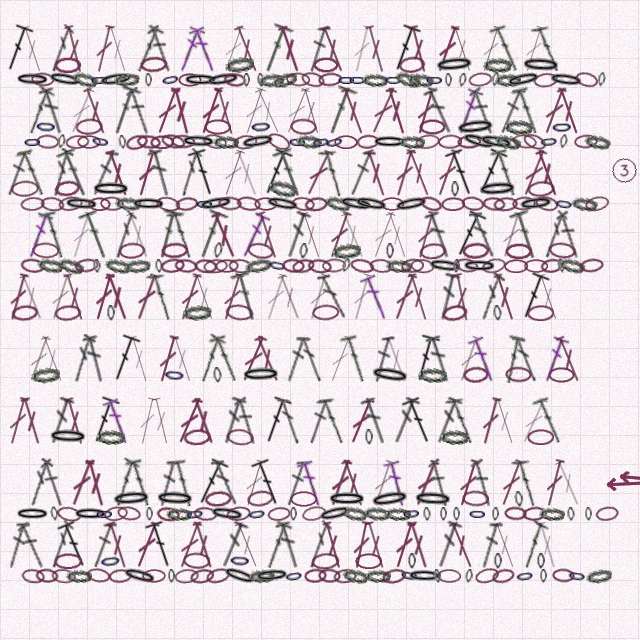chain: (369, 364, 411, 386), (369, 488, 411, 510), (221, 564, 258, 588), (460, 130, 497, 153), (455, 117, 496, 137), (121, 565, 158, 587), (434, 55, 475, 74), (111, 489, 152, 508), (505, 69, 542, 90), (317, 503, 354, 524), (264, 194, 301, 214), (393, 194, 430, 214), (477, 180, 518, 198), (521, 56, 561, 74), (478, 132, 514, 152), (338, 194, 374, 214), (353, 194, 389, 214), (413, 490, 453, 508), (47, 70, 83, 89), (98, 70, 134, 89), (205, 70, 241, 89), (240, 132, 276, 151), (198, 194, 234, 213), (241, 366, 281, 383), (48, 428, 88, 445), (155, 490, 195, 507), (224, 54, 255, 75), (267, 178, 298, 199), (548, 71, 584, 89), (427, 257, 463, 275), (209, 505, 245, 523), (91, 181, 131, 197), (327, 491, 367, 507), (270, 69, 299, 91), (265, 130, 292, 153), (331, 241, 362, 261), (30, 365, 61, 385), (518, 195, 554, 212), (254, 567, 290, 584), (521, 131, 548, 153), (394, 69, 422, 90), (246, 241, 275, 261), (182, 303, 212, 322), (64, 196, 99, 212), (57, 256, 85, 276), (441, 303, 469, 323), (225, 303, 254, 322), (246, 489, 275, 508), (398, 55, 426, 74), (71, 70, 99, 89), (324, 194, 352, 213), (548, 241, 576, 260), (244, 256, 272, 275), (558, 256, 586, 275), (15, 72, 50, 87), (181, 134, 216, 149), (311, 552, 340, 570), (124, 132, 150, 152), (418, 194, 444, 214), (54, 179, 81, 198), (494, 133, 522, 151), (527, 180, 555, 198), (419, 242, 447, 260), (104, 257, 132, 275), (11, 304, 39, 322), (54, 304, 82, 322), (183, 428, 211, 446), (226, 428, 254, 446), (204, 490, 232, 508), (585, 567, 613, 585), (300, 70, 326, 89), (160, 132, 186, 151), (202, 132, 228, 151), (584, 194, 610, 213), (481, 256, 507, 275), (301, 504, 327, 523), (205, 566, 231, 585), (474, 566, 500, 585), (183, 73, 218, 87), (372, 135, 407, 149), (131, 197, 166, 211), (462, 259, 497, 273), (15, 507, 50, 521), (73, 507, 108, 521), (407, 569, 442, 583), (584, 133, 611, 151), (342, 567, 369, 585), (75, 118, 103, 135), (11, 180, 39, 197), (118, 242, 146, 259), (574, 70, 599, 89), (534, 194, 559, 213), (155, 195, 181, 213), (349, 257, 375, 275), (56, 505, 82, 523), (189, 567, 215, 585), (381, 567, 407, 585), (483, 57, 512, 73), (504, 119, 533, 135), (418, 367, 447, 383), (96, 429, 125, 445), (440, 429, 469, 445), (140, 56, 167, 73), (113, 71, 140, 88), (290, 118, 317, 135), (32, 242, 59, 259), (161, 242, 188, 259), (462, 242, 489, 259), (37, 257, 64, 274), (312, 304, 339, 321), (505, 366, 532, 383), (462, 490, 489, 507), (341, 505, 368, 522), (183, 552, 210, 569), (291, 257, 316, 275), (491, 567, 516, 585), (54, 553, 82, 569), (463, 366, 489, 383), (103, 505, 129, 522), (116, 505, 142, 522), (54, 57, 81, 73), (258, 72, 285, 88), (407, 72, 434, 88), (204, 119, 231, 135), (419, 119, 446, 135), (571, 196, 598, 212), (505, 243, 532, 259), (124, 258, 151, 274), (527, 305, 554, 321), (548, 367, 575, 383), (527, 429, 554, 445), (290, 491, 317, 507), (355, 553, 382, 569), (248, 568, 275, 584), (468, 71, 493, 88), (415, 133, 440, 150), (512, 133, 537, 150), (58, 195, 83, 212), (236, 195, 261, 212), (20, 257, 45, 274), (74, 257, 99, 274), (160, 257, 185, 274), (454, 257, 479, 274), (579, 257, 604, 274), (226, 505, 251, 522), (86, 567, 111, 584), (313, 57, 339, 73), (163, 366, 186, 384), (99, 552, 122, 570), (461, 195, 485, 212), (540, 257, 564, 274), (595, 505, 619, 522), (533, 72, 558, 88), (65, 134, 90, 150), (136, 134, 161, 150), (233, 134, 258, 150), (20, 196, 45, 212), (40, 196, 65, 212), (493, 196, 518, 212), (203, 258, 228, 274), (228, 258, 253, 274), (307, 258, 332, 274), (369, 258, 394, 274), (410, 258, 435, 274), (193, 506, 218, 522), (51, 568, 76, 584), (108, 568, 133, 584), (174, 568, 199, 584), (296, 134, 322, 149), (115, 196, 141, 211), (364, 506, 390, 521), (223, 72, 247, 88), (175, 196, 199, 212), (291, 196, 315, 212), (304, 196, 328, 212), (482, 196, 506, 212), (174, 258, 198, 274), (194, 258, 218, 274), (156, 506, 180, 522), (267, 506, 291, 522), (21, 568, 45, 584), (333, 568, 357, 584), (324, 133, 345, 151), (522, 506, 547, 521), (35, 118, 57, 135), (250, 118, 272, 135), (229, 552, 251, 569), (362, 73, 388, 87), (495, 73, 521, 87), (213, 135, 239, 149), (399, 135, 425, 149), (386, 259, 412, 273), (166, 507, 192, 521), (385, 507, 411, 521), (539, 507, 565, 521), (66, 569, 92, 583), (365, 569, 391, 583), (286, 72, 310, 87), (318, 72, 342, 87), (171, 134, 195, 149), (356, 134, 380, 149), (438, 134, 462, 149), (574, 134, 598, 149), (100, 196, 124, 211), (218, 196, 242, 211), (512, 196, 536, 211), (322, 258, 346, 273), (35, 568, 59, 583), (160, 71, 181, 88), (90, 133, 111, 150), (267, 257, 288, 274), (399, 567, 420, 584), (551, 119, 573, 135), (31, 72, 54, 87), (36, 134, 59, 149), (282, 258, 305, 273), (401, 258, 424, 273), (504, 506, 527, 521), (304, 568, 327, 583), (318, 568, 341, 583), (552, 568, 575, 583), (178, 73, 202, 87), (77, 135, 101, 149), (150, 135, 174, 149), (334, 135, 358, 149), (457, 135, 481, 149), (254, 197, 278, 211), (380, 197, 404, 211), (441, 197, 465, 211), (215, 259, 239, 273), (504, 259, 528, 273), (524, 259, 548, 273), (142, 569, 166, 583), (437, 569, 461, 583), (88, 197, 111, 211), (311, 134, 331, 150), (554, 196, 574, 212), (185, 506, 205, 522), (247, 506, 267, 522), (284, 568, 304, 584), (515, 568, 535, 584), (567, 568, 587, 584), (539, 134, 559, 149), (402, 506, 421, 521), (90, 73, 109, 87), (337, 73, 356, 87), (348, 73, 367, 87), (384, 73, 403, 87), (425, 73, 444, 87), (23, 135, 42, 149), (288, 135, 307, 149), (195, 197, 214, 211), (95, 507, 114, 521), (468, 507, 487, 521), (213, 242, 223, 259), (514, 491, 524, 507), (341, 258, 351, 273), (299, 243, 308, 259), (493, 305, 502, 321), (213, 367, 222, 383), (491, 72, 500, 87), (597, 72, 606, 87), (57, 134, 66, 149), (559, 134, 568, 149), (557, 258, 566, 273), (50, 506, 59, 521), (451, 181, 459, 197), (386, 243, 394, 259), (107, 305, 115, 321), (365, 429, 373, 445), (408, 553, 416, 569), (494, 553, 502, 569), (537, 553, 545, 569), (458, 73, 467, 87), (118, 135, 127, 149), (433, 569, 442, 583), (257, 73, 265, 87), (93, 259, 101, 273), (155, 259, 163, 273), (423, 507, 431, 521), (567, 507, 575, 521), (465, 569, 473, 583), (145, 73, 152, 87), (243, 73, 250, 87), (445, 73, 452, 87), (453, 259, 460, 273), (146, 507, 153, 521), (290, 507, 297, 521), (440, 507, 447, 521), (453, 507, 460, 521), (492, 507, 499, 521), (585, 507, 592, 521), (168, 569, 175, 583), (540, 569, 547, 583)
double: (56, 147, 94, 199), (450, 209, 488, 260), (192, 457, 230, 508), (472, 147, 509, 198), (56, 519, 93, 570), (258, 23, 294, 75), (322, 85, 358, 137), (272, 147, 308, 199), (78, 209, 114, 261), (193, 209, 229, 261), (129, 23, 165, 74), (258, 147, 294, 198), (401, 395, 437, 446), (250, 457, 286, 508), (107, 85, 142, 137), (0, 23, 35, 74), (444, 147, 479, 198), (516, 271, 551, 322), (107, 333, 142, 384), (509, 209, 543, 261), (301, 148, 336, 198), (388, 23, 422, 74), (488, 23, 522, 74), (22, 85, 56, 136), (87, 395, 121, 446), (259, 395, 293, 446), (531, 395, 565, 446), (144, 519, 178, 570), (259, 519, 293, 570), (251, 86, 285, 136), (366, 86, 400, 136), (423, 86, 457, 136), (237, 210, 271, 260), (517, 396, 551, 446), (531, 23, 564, 74), (15, 147, 48, 198), (187, 147, 220, 198), (230, 271, 263, 322), (194, 333, 227, 384), (208, 333, 241, 384), (316, 395, 349, 446), (445, 395, 478, 446), (517, 519, 550, 570), (65, 86, 98, 136), (280, 86, 313, 136), (208, 210, 241, 260), (337, 210, 370, 260), (359, 272, 392, 322), (237, 334, 270, 384), (251, 334, 284, 384), (173, 396, 206, 446), (345, 396, 378, 446), (552, 458, 585, 508), (510, 85, 542, 136), (152, 209, 184, 260), (109, 457, 141, 508), (174, 24, 206, 74), (188, 24, 220, 74), (231, 24, 263, 74), (317, 24, 349, 74), (231, 148, 263, 198), (403, 148, 435, 198), (518, 148, 550, 198), (367, 210, 399, 260), (16, 272, 48, 322), (274, 272, 306, 322), (324, 334, 356, 384), (467, 334, 499, 384), (553, 334, 585, 384), (389, 396, 421, 446), (410, 458, 442, 508), (131, 520, 163, 570), (217, 520, 249, 570), (231, 520, 263, 570), (446, 520, 478, 570), (489, 147, 520, 198), (166, 209, 197, 260), (410, 333, 441, 384), (432, 24, 463, 74), (80, 86, 111, 136), (152, 86, 183, 136), (338, 86, 369, 136), (453, 86, 484, 136), (539, 86, 570, 136), (432, 148, 463, 198), (532, 148, 563, 198), (23, 210, 54, 260), (123, 210, 154, 260), (324, 210, 355, 260), (424, 210, 455, 260), (102, 272, 133, 322), (131, 272, 162, 322), (389, 272, 420, 322), (37, 334, 68, 384), (381, 334, 412, 384), (539, 334, 570, 384), (102, 396, 133, 446), (188, 396, 219, 446), (360, 396, 391, 446), (432, 396, 463, 446), (66, 458, 97, 508), (338, 458, 369, 508), (496, 458, 527, 508), (174, 520, 205, 570), (489, 520, 520, 570), (16, 521, 48, 569), (38, 209, 68, 260), (146, 271, 176, 322), (339, 333, 369, 384), (124, 457, 154, 508), (511, 457, 541, 508), (317, 272, 348, 321), (475, 272, 506, 321), (17, 24, 47, 74), (218, 24, 248, 74), (275, 24, 305, 74), (447, 24, 477, 74), (38, 86, 68, 136), (196, 86, 226, 136), (239, 86, 269, 136), (554, 86, 584, 136), (103, 148, 133, 198), (218, 148, 248, 198), (361, 148, 391, 198), (253, 210, 283, 260), (282, 210, 312, 260), (296, 210, 326, 260), (382, 210, 412, 260), (175, 272, 205, 322), (189, 272, 219, 322), (261, 272, 291, 322), (490, 272, 520, 322), (533, 272, 563, 322), (24, 334, 54, 384), (167, 334, 197, 384), (425, 334, 455, 384), (454, 334, 484, 384), (296, 458, 326, 508), (325, 458, 355, 508), (368, 458, 398, 508), (433, 520, 463, 570), (89, 148, 119, 197), (24, 458, 54, 507), (103, 24, 132, 74), (476, 24, 505, 74), (519, 24, 548, 74), (382, 86, 411, 136), (318, 148, 347, 198), (390, 148, 419, 198), (67, 210, 96, 260), (497, 210, 526, 260), (46, 272, 75, 322), (60, 272, 89, 322), (218, 272, 247, 322), (304, 272, 333, 322), (404, 272, 433, 322), (17, 396, 46, 446), (46, 396, 75, 446), (490, 396, 519, 446), (454, 458, 483, 508), (103, 520, 132, 570), (189, 520, 218, 570), (275, 520, 304, 570), (390, 520, 419, 570), (404, 520, 433, 570), (533, 520, 562, 570), (146, 24, 175, 73), (468, 86, 497, 135), (497, 86, 526, 135), (347, 148, 376, 197), (540, 210, 569, 259), (362, 24, 390, 74), (211, 86, 239, 136), (297, 86, 325, 136), (412, 86, 440, 136), (133, 148, 161, 198), (147, 148, 175, 198), (412, 210, 440, 260), (4, 272, 32, 322), (90, 272, 118, 322), (348, 272, 376, 322), (125, 334, 153, 384), (154, 334, 182, 384), (498, 334, 526, 384), (4, 396, 32, 446), (61, 396, 89, 446), (219, 396, 247, 446), (82, 458, 110, 508), (168, 458, 196, 508), (240, 458, 268, 508), (319, 520, 347, 570), (362, 520, 390, 570), (47, 24, 75, 73), (125, 86, 153, 135), (555, 210, 583, 259), (68, 334, 96, 383), (39, 458, 67, 507), (211, 458, 239, 507), (47, 520, 75, 569), (305, 520, 333, 569), (61, 24, 88, 74), (405, 24, 432, 74), (168, 86, 195, 136), (82, 334, 109, 384), (477, 396, 504, 446), (383, 458, 410, 508), (541, 458, 568, 508), (4, 148, 31, 197), (47, 148, 74, 197), (111, 210, 138, 259), (469, 210, 496, 259), (283, 334, 310, 383), (512, 334, 539, 383), (233, 396, 260, 445), (283, 458, 310, 507), (90, 520, 117, 569), (91, 24, 117, 74), (349, 24, 375, 74), (435, 272, 461, 322), (134, 396, 160, 446), (148, 396, 174, 446), (177, 148, 203, 197), (298, 334, 324, 383), (306, 396, 332, 445), (349, 520, 374, 570), (306, 24, 331, 73), (277, 396, 302, 445), (427, 458, 452, 507), (470, 458, 495, 507), (5, 520, 30, 569), (478, 520, 503, 569), (450, 272, 474, 322), (371, 334, 395, 383), (156, 458, 180, 507)
noise: (609, 155, 639, 185), (604, 476, 640, 492), (617, 471, 640, 484)
